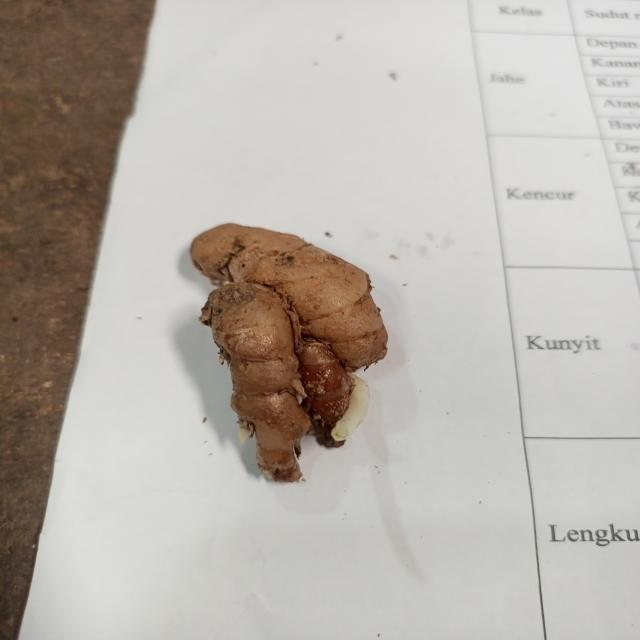ginger: (202, 228, 380, 466)
